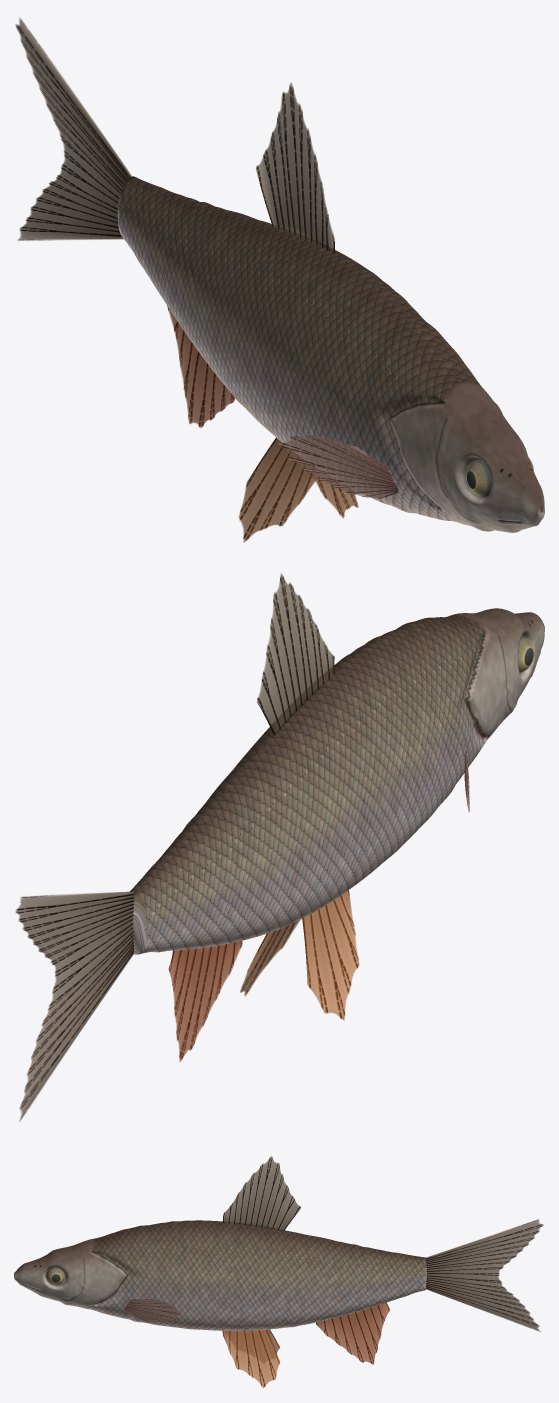
Rendered from swinka.glb.
The picture shows the model from 3 angles, top to bottom: view 1: azimuth 30°, elevation 25°; view 2: azimuth 150°, elevation 25°; view 3: azimuth 270°, elevation 25°; orthographic projection. The views are drawn at different scales.
Parts seen in each view (by area): view 1: Body, FinCaudal, FinDorsal1, FinPelvic, FinPectoral, FinAnal, EyeLeft, CorneaLeft; view 2: Body, FinCaudal, FinDorsal1, FinPelvic, FinAnal; view 3: Body, FinCaudal, FinDorsal1, FinAnal, FinPelvic, FinPectoral.
Part boxes in pixels (<box>): Body: <box>117,176,544,532</box>; FinCaudal: <box>15,18,131,240</box>; FinDorsal1: <box>256,82,334,253</box>; FinPelvic: <box>238,437,358,542</box>; FinPectoral: <box>279,434,398,498</box>; FinAnal: <box>167,306,234,427</box>; EyeLeft: <box>466,460,491,497</box>; CorneaLeft: <box>466,460,490,497</box>; Body: <box>129,608,544,954</box>; FinCaudal: <box>15,891,134,1121</box>; FinDorsal1: <box>257,573,334,735</box>; FinPelvic: <box>240,890,359,1020</box>; FinAnal: <box>168,941,242,1061</box>; Body: <box>14,1220,426,1330</box>; FinCaudal: <box>426,1219,543,1331</box>; FinDorsal1: <box>223,1156,300,1230</box>; FinAnal: <box>316,1302,390,1364</box>; FinPelvic: <box>222,1329,280,1388</box>; FinPectoral: <box>124,1297,182,1322</box>.
Bounding box in the file's own units: 0.2092 × 0.4631 × 1.
8 materials, 7 textured.
